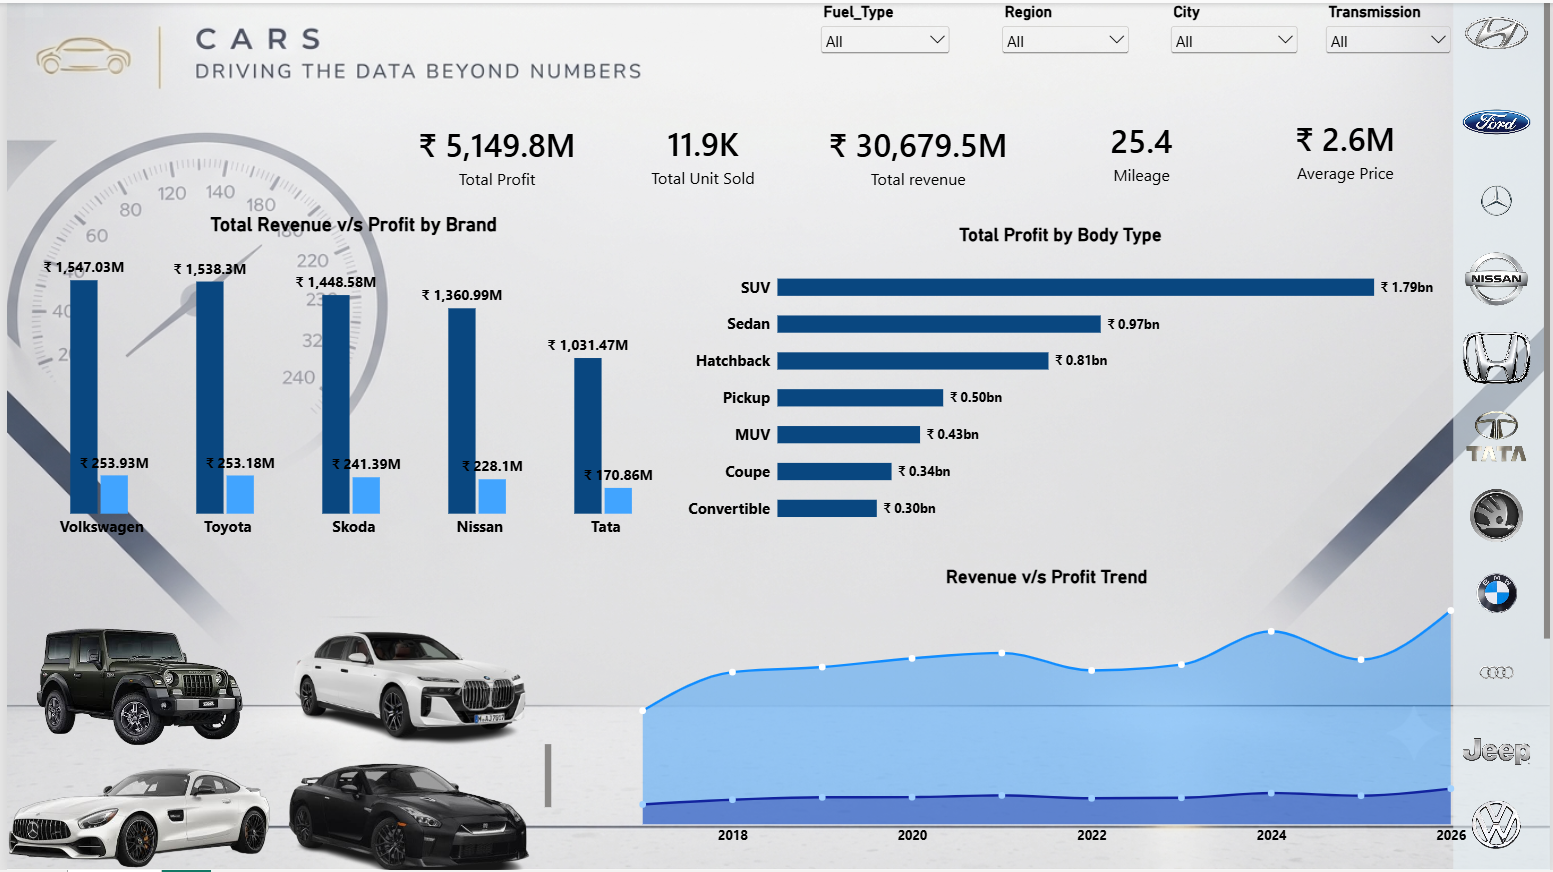

The dashboard page shown, as its layout file describes it:
{"tool":"powerbi","page":{"name":"Page 1","canvas":[1920,1080],"ordinal":0},"visuals":[{"type":"advancedSlicerVisual","fields":{"Values":["Sheet1.cars images"]},"box":[0,763.6,677.2,317],"z":0},{"type":"advancedSlicerVisual","fields":{"Values":["Sheet1.logo images"]},"box":[1799,0,121.4,1080.6],"z":1000},{"type":"card","fields":{"Values":["Sum(car_sales_dashboard_2000.Yearly Profit)"]},"box":[462.5,125,292.3,129.7],"z":2000},{"type":"card","fields":{"Values":["Sum(car_sales_dashboard_2000.Units_Sold)"]},"box":[755,125,220,127.5],"z":3000},{"type":"card","title":"Total Revenue","fields":{"Values":["Sum(car_sales_dashboard_2000.Yearly revenue)"]},"box":[975,125,317,129.7],"z":4000},{"type":"card","fields":{"Values":["Avg(car_sales_dashboard_2000.Mileage_kmpl)"]},"box":[1292.5,120,235,130],"z":5000},{"type":"card","fields":{"Values":["Avg(car_sales_dashboard_2000.Selling Price)"]},"box":[1527.5,120,272.5,125],"z":6000},{"type":"slicer","fields":{"Values":["car_sales_dashboard_2000.Region"]},"box":[1232.5,0,167.5,90],"z":7000},{"type":"slicer","fields":{"Values":["car_sales_dashboard_2000.Fuel_Type"]},"box":[1007.5,0,170,90],"z":8000},{"type":"slicer","fields":{"Values":["car_sales_dashboard_2000.Transmission"]},"box":[1635,0,165,87.5],"z":9000},{"type":"slicer","fields":{"Values":["car_sales_dashboard_2000.City"]},"box":[1442.5,0,167.5,90],"z":10000},{"type":"barChart","title":"Total Profit by Body Type","fields":{"Category":["car_sales_dashboard_2000.Body_Type"],"Y":["Sum(car_sales_dashboard_2000.Yearly Profit)"]},"box":[830,260,960,415],"z":11000},{"type":"areaChart","title":"Revenue v/s Profit Trend","fields":{"Category":["car_sales_dashboard_2000.Model_Year"],"Y":["Sum(car_sales_dashboard_2000.Yearly revenue)","Sum(car_sales_dashboard_2000.Yearly Profit)"]},"box":[755,685,1075,382.5],"z":12000},{"type":"clusteredColumnChart","title":"Total Revenue v/s Profit by Brand","fields":{"Category":["car_sales_dashboard_2000.Brand"],"Y":["Sum(car_sales_dashboard_2000.Yearly revenue)","Sum(car_sales_dashboard_2000.Yearly Profit)"]},"box":[0,247.5,862.5,437.5],"z":13000}]}

Visuals, with their boxes in screenshot pixels (x1, y1, x2, y2), scaled from the page's 1920x1080 canvas onto the 1553x872 screenshot:
advancedSlicerVisual - Sheet1.cars images: x1=0 y1=617 x2=548 y2=871
advancedSlicerVisual - Sheet1.logo images: x1=1455 y1=0 x2=1552 y2=871
card - Sum(car_sales_dashboard_2000.Yearly Profit): x1=374 y1=101 x2=611 y2=206
card - Sum(car_sales_dashboard_2000.Units_Sold): x1=611 y1=101 x2=789 y2=204
"Total Revenue" card: x1=789 y1=101 x2=1045 y2=206
card - Avg(car_sales_dashboard_2000.Mileage_kmpl): x1=1045 y1=97 x2=1236 y2=202
card - Avg(car_sales_dashboard_2000.Selling Price): x1=1236 y1=97 x2=1456 y2=198
slicer - car_sales_dashboard_2000.Region: x1=997 y1=0 x2=1132 y2=73
slicer - car_sales_dashboard_2000.Fuel_Type: x1=815 y1=0 x2=952 y2=73
slicer - car_sales_dashboard_2000.Transmission: x1=1322 y1=0 x2=1456 y2=71
slicer - car_sales_dashboard_2000.City: x1=1167 y1=0 x2=1302 y2=73
"Total Profit by Body Type" barChart: x1=671 y1=210 x2=1448 y2=545
"Revenue v/s Profit Trend" areaChart: x1=611 y1=553 x2=1480 y2=862
"Total Revenue v/s Profit by Brand" clusteredColumnChart: x1=0 y1=200 x2=698 y2=553
